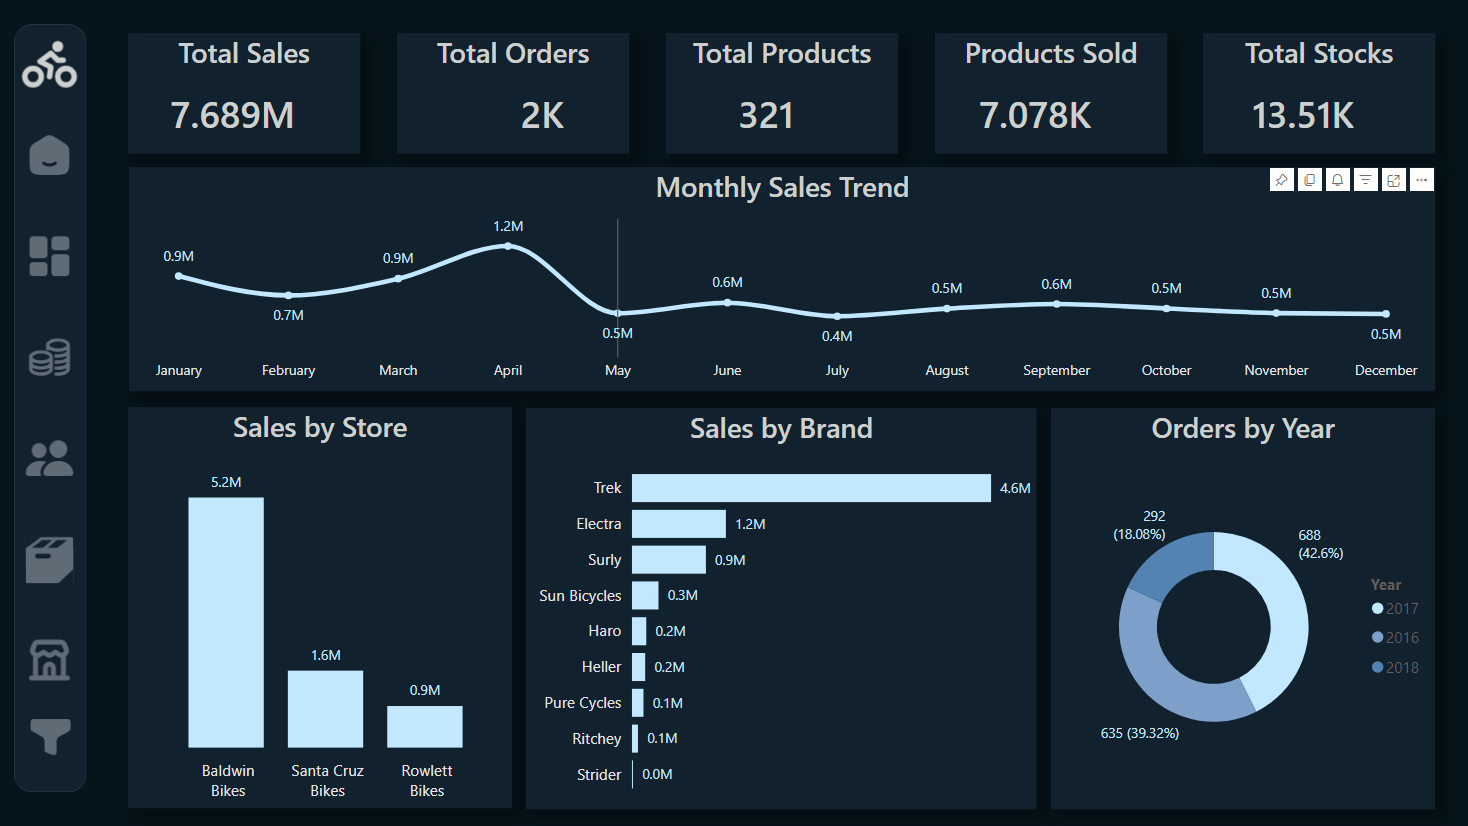

What the dashboard file says about the page in this screenshot:
{"tool":"powerbi","page":{"name":"Overview","canvas":[1280,720],"ordinal":1},"visuals":[{"type":"shape","box":[14.1,20.6,63,668.3],"z":0},{"type":"actionButton","box":[20.2,193.3,49.5,58.5],"z":1000},{"type":"actionButton","box":[20.2,281.9,49.5,57.4],"z":2000},{"type":"actionButton","box":[20.2,369.5,49.5,57.4],"z":3000},{"type":"actionButton","box":[20.2,545.6,49.5,57.4],"z":4000},{"type":"actionButton","box":[20.2,457,49.5,58.5],"z":5000},{"type":"actionButton","box":[20.2,105.8,49.5,57.4],"z":6000},{"type":"actionButton","box":[12.4,23.6,65.2,66.4],"z":7000},{"type":"cardVisual","title":"Total Sales","fields":{"Data":["All-Measure.Total Sales"]},"box":[113.3,28.6,201.8,105.5],"z":8000},{"type":"cardVisual","title":"Total Orders","fields":{"Data":["All-Measure.Total Order"]},"box":[347,28.6,201.8,105.5],"z":9000},{"type":"cardVisual","title":"Total Products","fields":{"Data":["All-Measure.Total Products"]},"box":[580.8,28.6,201.8,105.5],"z":10000},{"type":"cardVisual","title":"Total Stocks","fields":{"Data":["All-Measure.Total Stock"]},"box":[1048.2,28.6,201.8,105.5],"z":11000},{"type":"cardVisual","title":"Products Sold","fields":{"Data":["All-Measure.Products Sold"]},"box":[814.5,28.6,201.8,105.5],"z":12000},{"type":"lineChart","title":"Monthly Sales Trend","fields":{"Category":["Calendar.Date.Variation.Date Hierarchy.Month"],"Y":["All-Measure.Total Sales"]},"box":[113.6,145.1,1136.2,194.6],"z":13000},{"type":"clusteredColumnChart","title":"Sales by Store","fields":{"Y":["All-Measure.Total Sales"],"Category":["Stores.store_name"]},"box":[113.3,353.8,334.2,349.2],"z":14000},{"type":"barChart","title":"Sales by Brand","fields":{"Category":["Brands.brand_name"],"Y":["All-Measure.Total Sales"]},"box":[459,354.4,444.4,348.8],"z":15000},{"type":"donutChart","title":"Orders by Year","fields":{"Category":["Calendar.Year"],"Y":["All-Measure.Total Order"]},"box":[915.8,354.4,334.1,348.8],"z":16000},{"type":"actionButton","box":[20.8,612.8,49.7,56.7],"z":17000}]}

Visuals, with their boxes on the page's 1280x720 design canvas (x1, y1, x2, y2). These are canvas units, not pixel positions in the 1468x826 screenshot, which may show the page scaled, cropped or inside an application window:
shape: x1=14 y1=21 x2=77 y2=689
actionButton: x1=20 y1=193 x2=70 y2=252
actionButton: x1=20 y1=282 x2=70 y2=339
actionButton: x1=20 y1=370 x2=70 y2=427
actionButton: x1=20 y1=546 x2=70 y2=603
actionButton: x1=20 y1=457 x2=70 y2=516
actionButton: x1=20 y1=106 x2=70 y2=163
actionButton: x1=12 y1=24 x2=78 y2=90
"Total Sales" cardVisual: x1=113 y1=29 x2=315 y2=134
"Total Orders" cardVisual: x1=347 y1=29 x2=549 y2=134
"Total Products" cardVisual: x1=581 y1=29 x2=783 y2=134
"Total Stocks" cardVisual: x1=1048 y1=29 x2=1250 y2=134
"Products Sold" cardVisual: x1=814 y1=29 x2=1016 y2=134
"Monthly Sales Trend" lineChart: x1=114 y1=145 x2=1250 y2=340
"Sales by Store" clusteredColumnChart: x1=113 y1=354 x2=448 y2=703
"Sales by Brand" barChart: x1=459 y1=354 x2=903 y2=703
"Orders by Year" donutChart: x1=916 y1=354 x2=1250 y2=703
actionButton: x1=21 y1=613 x2=70 y2=670
